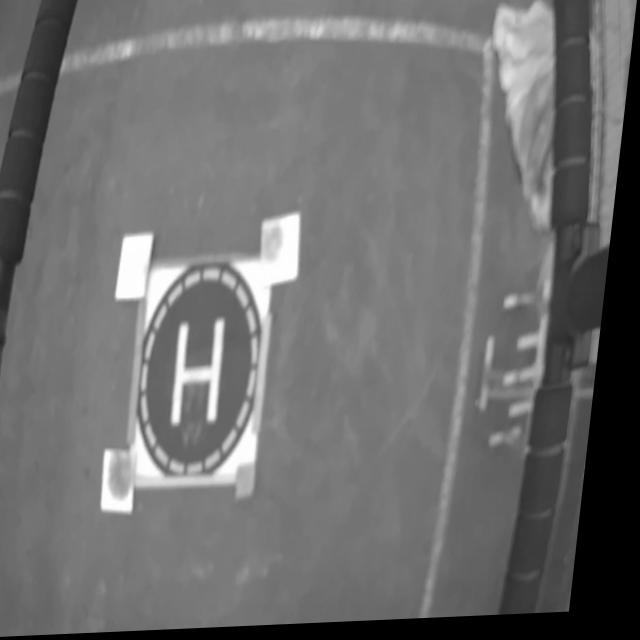Helipad: (181, 321, 234, 428)
